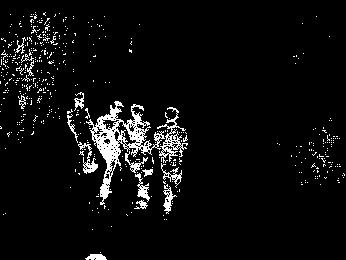person: (152, 105, 189, 220), (91, 98, 127, 204), (119, 104, 154, 209), (67, 90, 98, 174)
